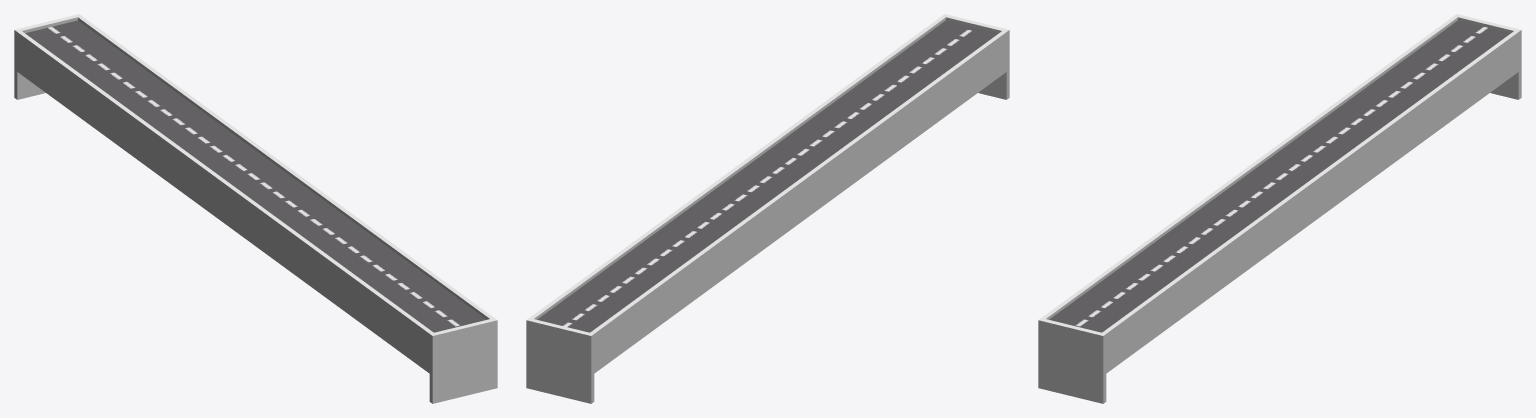
Rendered from level1_road.fbx.
3 views of the same model, side by side, from view 1: azimuth 30°, elevation 25°; view 2: azimuth 150°, elevation 25°; view 3: azimuth 330°, elevation 25° (orthographic).
Parts seen in each view (by area): view 1: level1_road; view 2: level1_road; view 3: level1_road.
Part boxes in pixels (box(x1,y1,x2,y2)): level1_road: box(14, 14, 497, 403); level1_road: box(526, 14, 1009, 403); level1_road: box(1038, 14, 1521, 403).
Bounding box in the file's own units: 1 × 1 × 11.16.
